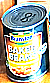beans: (2, 3, 48, 83)
